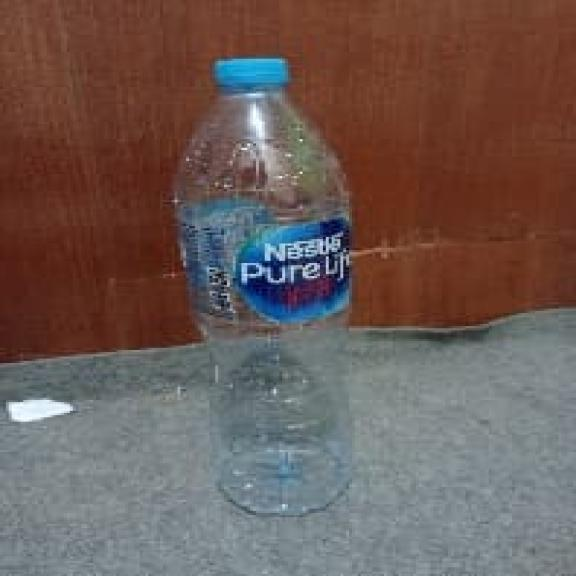Plastik: (178, 58, 351, 515)
